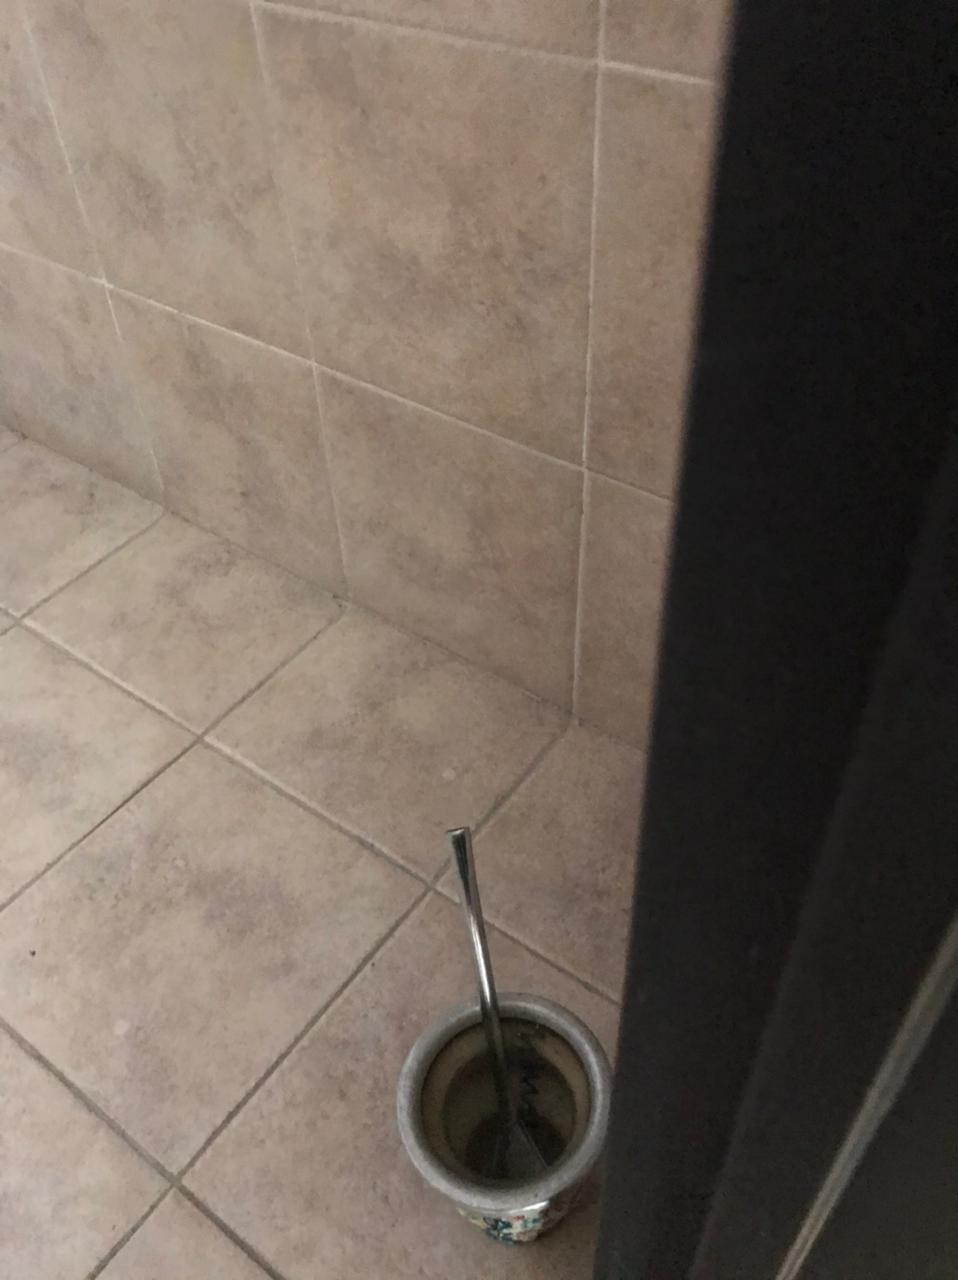mate: (362, 826, 624, 1251)
